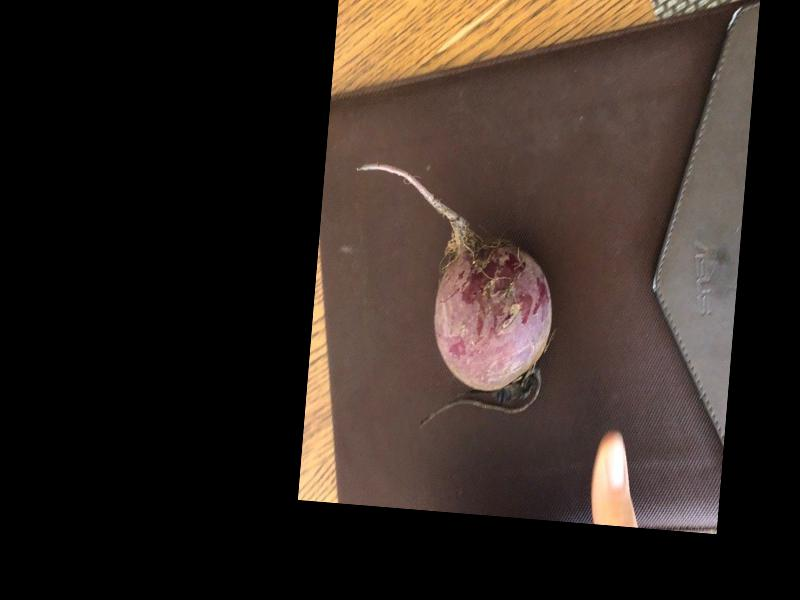Beet: (337, 161, 562, 435)
